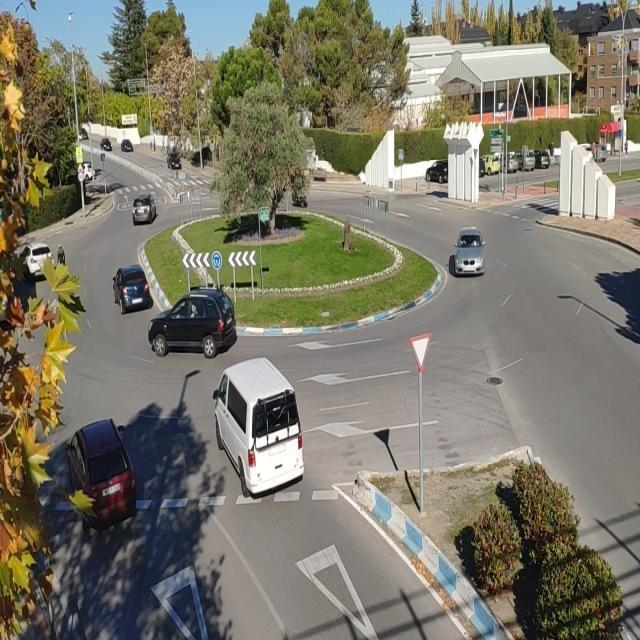Car: (212, 354, 304, 502), (64, 420, 141, 530), (146, 289, 238, 358), (112, 260, 155, 316), (452, 222, 488, 278), (18, 243, 58, 281), (126, 189, 161, 226), (115, 133, 141, 160), (164, 150, 186, 173), (94, 138, 118, 156)
